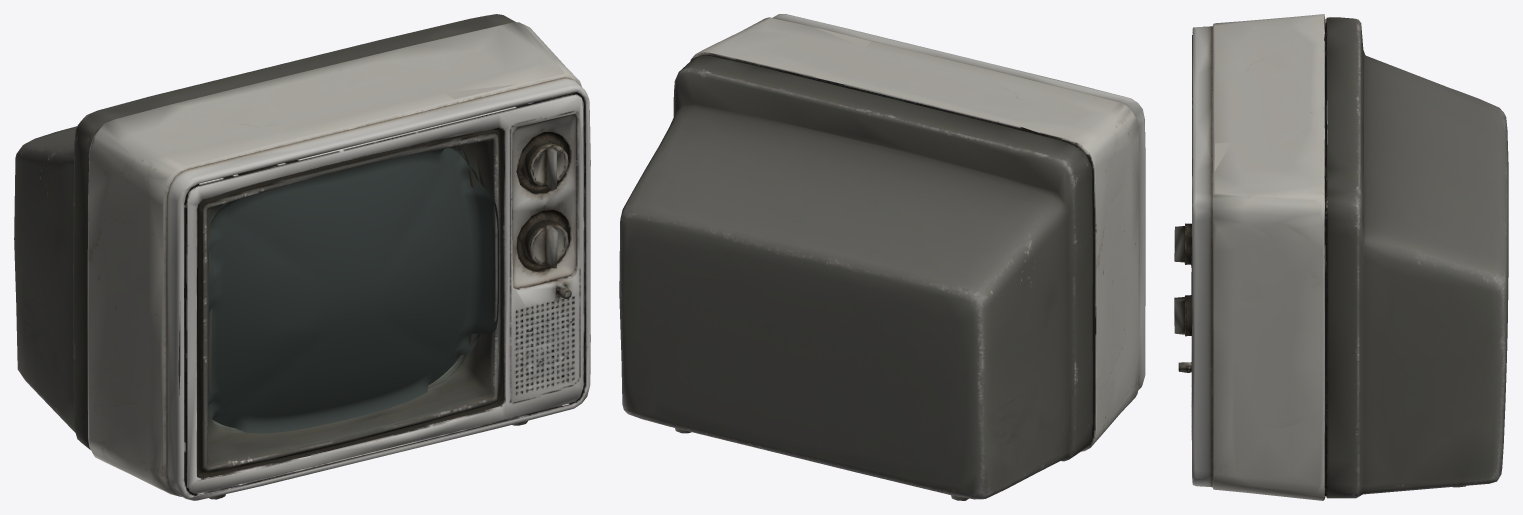
Rendered from tv_crt_e.glb.
3 renders of one model, left to right at view 1: azimuth 30°, elevation 25°; view 2: azimuth 150°, elevation 25°; view 3: azimuth 270°, elevation 25°, orthographic. The views are drawn at different scales.
Parts seen in each view (by area): view 1: tv_crt_e, tv_screen; view 2: tv_crt_e; view 3: tv_crt_e.
Part boxes in pixels (box(x1,y1,x2,y2)): tv_crt_e: box(14, 14, 590, 500); tv_screen: box(208, 148, 498, 433); tv_crt_e: box(619, 14, 1145, 500); tv_crt_e: box(1174, 14, 1508, 500).
Bounding box in the file's own units: 0.5002 × 0.371 × 0.3572.
Materials: 2 (1 with a texture image).
